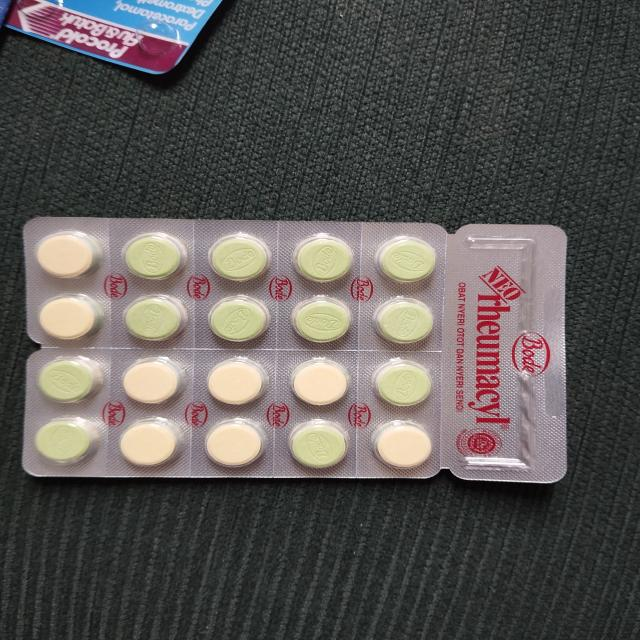B3: (23, 219, 567, 479)
